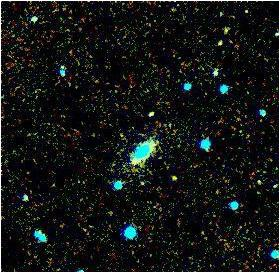star: (157, 161, 187, 191)
